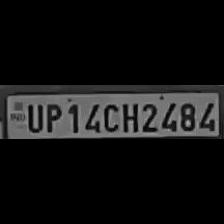1: (62, 100, 79, 134)
2: (138, 100, 156, 132)
4: (80, 101, 100, 133), (196, 100, 216, 132), (158, 100, 176, 132)
8: (176, 100, 196, 132)
C: (100, 101, 118, 133)
H: (120, 100, 138, 132)
P: (42, 102, 62, 134)
U: (24, 101, 42, 133)
